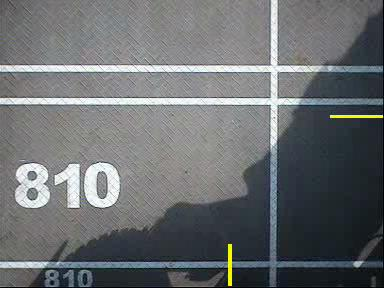groundmarker_2: (194, 68, 235, 113), (197, 243, 237, 288)
